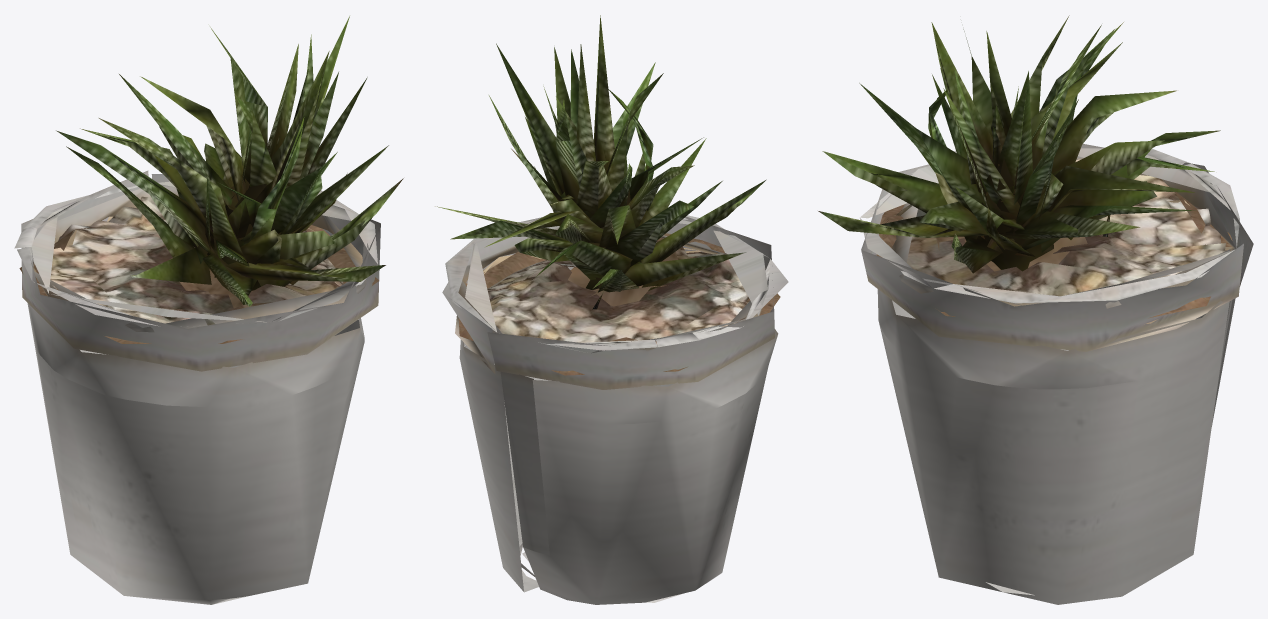
Rendered from potted_plant_04_1k.gltf.lod.glb.
3 renders of one model, left to right at view 1: azimuth 30°, elevation 25°; view 2: azimuth 150°, elevation 25°; view 3: azimuth 270°, elevation 25°, orthographic. The views are drawn at different scales.
Parts seen in each view (by area): view 1: potted_plant_04_pot, potted_plant_04_plant, potted_plant_04_ground, potted_plant_04_dirt; view 2: potted_plant_04_pot, potted_plant_04_plant, potted_plant_04_ground, potted_plant_04_dirt; view 3: potted_plant_04_pot, potted_plant_04_plant, potted_plant_04_ground, potted_plant_04_dirt.
Boxes of the visible parts, x1,y1,x2,y2 form: potted_plant_04_pot: [14, 170, 380, 604]; potted_plant_04_plant: [56, 16, 403, 306]; potted_plant_04_ground: [50, 196, 343, 325]; potted_plant_04_dirt: [19, 225, 379, 343]; potted_plant_04_pot: [442, 215, 788, 604]; potted_plant_04_plant: [435, 15, 766, 309]; potted_plant_04_ground: [487, 240, 749, 344]; potted_plant_04_dirt: [458, 233, 780, 375]; potted_plant_04_pot: [860, 144, 1253, 604]; potted_plant_04_plant: [818, 15, 1220, 273]; potted_plant_04_ground: [896, 159, 1230, 296]; potted_plant_04_dirt: [876, 192, 1232, 318].
Bounding box in the file's own units: 0.1732 × 0.2687 × 0.1873.
1 material, 1 textured.
